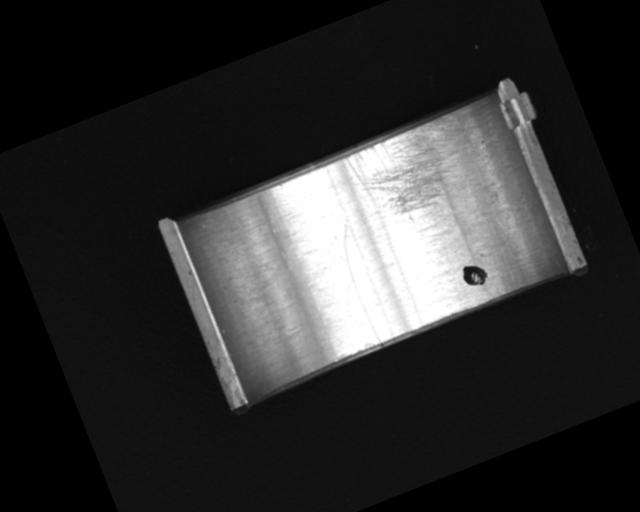blot: (457, 257, 492, 292)
nick: (330, 221, 394, 348)
scratch: (342, 111, 485, 239)
